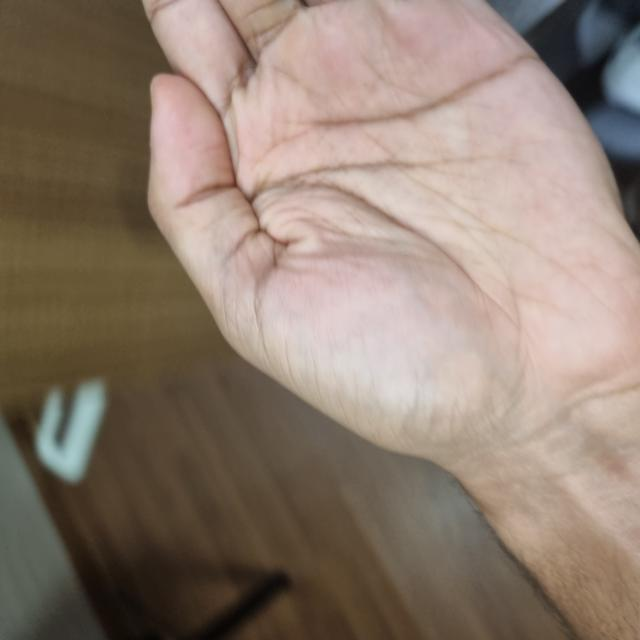Paper: (165, 150, 639, 639)
